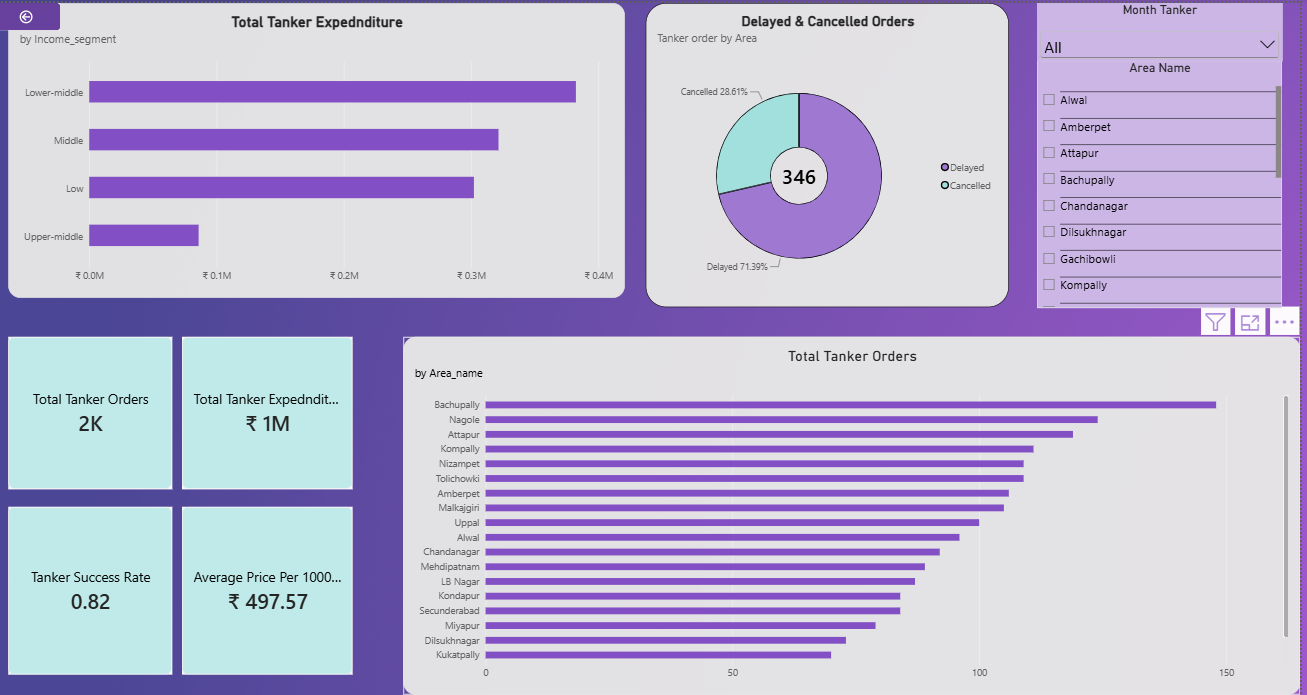

The page's visual inventory and layout, read from the dashboard file:
{"tool":"powerbi","page":{"name":"Tanker Dependency & Household Expenses","canvas":[1920,1080],"ordinal":2},"visuals":[{"type":"cardVisual","fields":{"Data":["aqua_watch tanker_orders.Total Tanker Expednditure"]},"box":[278.9,489.6,250.5,223.9],"z":0},{"type":"cardVisual","fields":{"Data":["aqua_watch tanker_orders.Tanker Success Rate"]},"box":[24.7,740.1,241,246.7],"z":1000},{"type":"clusteredBarChart","fields":{"Category":["aqua_watch areas.Area_name"],"Y":["aqua_watch tanker_orders.Total Tanker Orders"]},"box":[603.4,489.6,1316.9,525.6],"z":2000},{"type":"cardVisual","fields":{"Data":["aqua_watch tanker_orders.Total Tanker Orders"]},"box":[24.7,489.6,241,223.9],"z":3000},{"type":"clusteredBarChart","fields":{"Category":["aqua_watch households.Income_segment"],"Y":["aqua_watch tanker_orders.Total Tanker Expednditure"]},"box":[24.7,0,905.2,432.7],"z":4000},{"type":"cardVisual","fields":{"Data":["aqua_watch tanker_orders.Average Price Per 1000 Liters"]},"box":[278.9,740.1,250.5,246.7],"z":5000},{"type":"donutChart","title":"Delayed & Cancelled Orders","fields":{"Category":["aqua_watch tanker_orders.Delivery_status"],"Y":["CountNonNull(aqua_watch tanker_orders.tanker_order_id)"]},"box":[959.2,0,533.1,446.7],"z":6000},{"type":"slicer","title":"Area Name","fields":{"Values":["aqua_watch areas.Area_name"]},"box":[1532.7,84.9,359.2,363.1],"z":7000},{"type":"slicer","title":"Month Tanker","fields":{"Values":["aqua_watch tanker_orders.Month_Tanker"]},"box":[1533.3,0,360.5,85.4],"z":8000},{"type":"actionButton","box":[0,0,100,40],"z":9000},{"type":"pageNavigator","box":[0,1030.4,800,50],"z":10000}]}

Visuals, with their boxes on the page's 1920x1080 design canvas (x1, y1, x2, y2). These are canvas units, not pixel positions in the 1307x695 screenshot, which may show the page scaled, cropped or inside an application window:
cardVisual - aqua_watch tanker_orders.Total Tanker Expednditure: (left=279, top=490, right=529, bottom=714)
cardVisual - aqua_watch tanker_orders.Tanker Success Rate: (left=25, top=740, right=266, bottom=987)
clusteredBarChart - aqua_watch areas.Area_name x aqua_watch tanker_orders.Total Tanker Orders: (left=603, top=490, right=1920, bottom=1015)
cardVisual - aqua_watch tanker_orders.Total Tanker Orders: (left=25, top=490, right=266, bottom=714)
clusteredBarChart - aqua_watch households.Income_segment x aqua_watch tanker_orders.Total Tanker Expednditure: (left=25, top=0, right=930, bottom=433)
cardVisual - aqua_watch tanker_orders.Average Price Per 1000 Liters: (left=279, top=740, right=529, bottom=987)
"Delayed & Cancelled Orders" donutChart: (left=959, top=0, right=1492, bottom=447)
"Area Name" slicer: (left=1533, top=85, right=1892, bottom=448)
"Month Tanker" slicer: (left=1533, top=0, right=1894, bottom=85)
actionButton: (left=0, top=0, right=100, bottom=40)
pageNavigator: (left=0, top=1030, right=800, bottom=1080)
